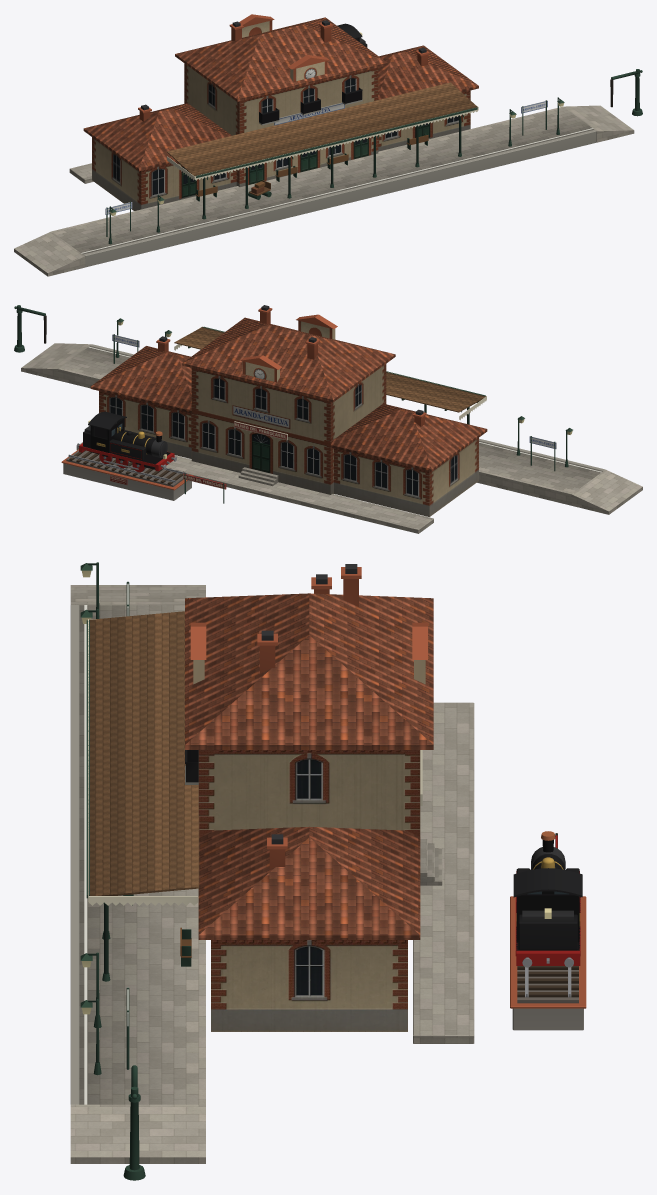
File: chelva.glb
The picture shows the model from 3 angles, top to bottom: view 1: azimuth 30°, elevation 25°; view 2: azimuth 150°, elevation 25°; view 3: azimuth 270°, elevation 25°; orthographic projection. The views are drawn at different scales.
Parts seen in each view (by area): view 1: chelva; view 2: chelva, museum_loco; view 3: chelva, museum_loco.
Boxes of the visible parts, left/top/right/bottom form: chelva: left=14, top=14, right=642, bottom=276; chelva: left=14, top=305, right=642, bottom=533; museum_loco: left=61, top=411, right=193, bottom=500; chelva: left=70, top=562, right=557, bottom=1180; museum_loco: left=510, top=831, right=586, bottom=1030.
Size of the model in its own units: 57.26 by 12.46 by 20.95.
Materials: 7 (5 with a texture image).
